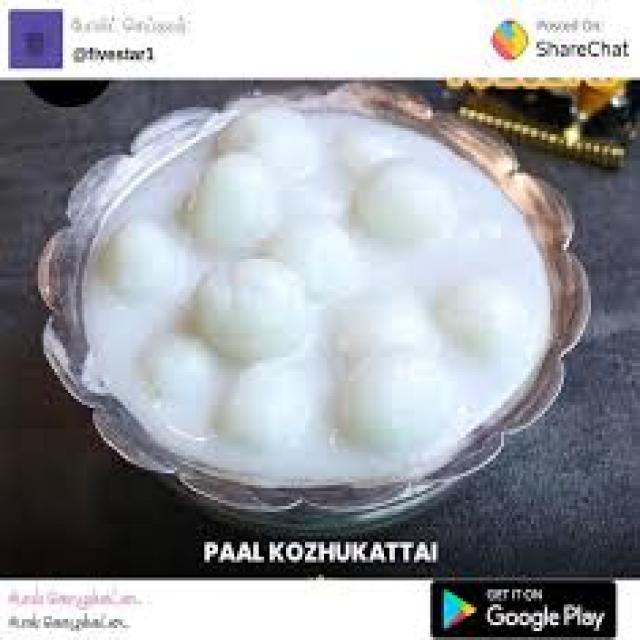paal kolukattai: (89, 84, 537, 509)
